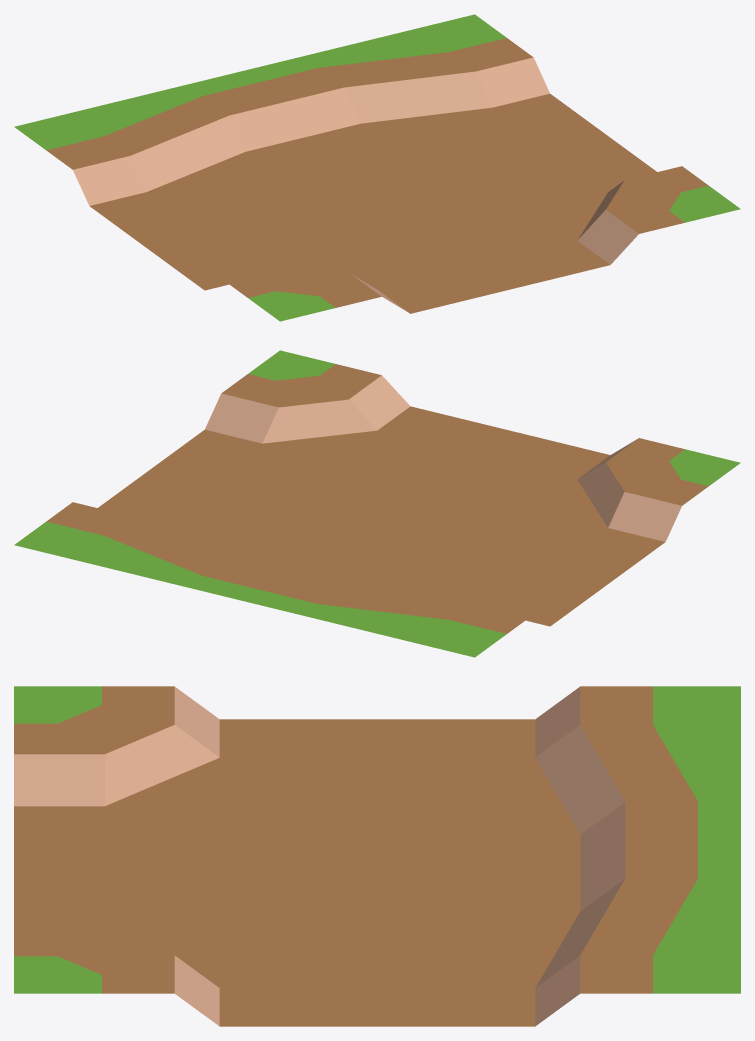
Rendered from ground_pathSplit.glb.
3 renders of one model, top to bottom at view 1: azimuth 30°, elevation 25°; view 2: azimuth 150°, elevation 25°; view 3: azimuth 270°, elevation 25°, orthographic. The views are drawn at different scales.
Parts seen in each view (by area): view 1: ground_pathSplit; view 2: ground_pathSplit; view 3: ground_pathSplit.
Part boxes in pixels (box(x1,y1,x2,y2)): ground_pathSplit: box(14, 14, 740, 321); ground_pathSplit: box(14, 350, 740, 657); ground_pathSplit: box(14, 686, 740, 1026).
Size of the model in its own units: 1 by 0.05 by 1.
